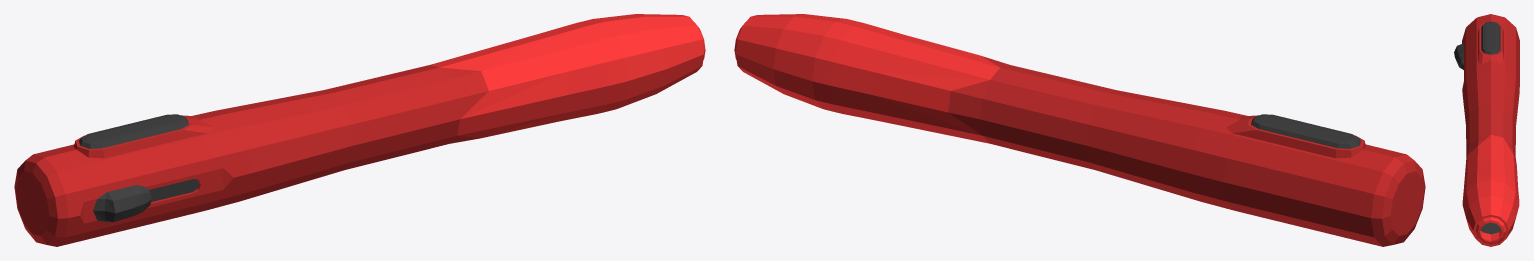
3 renders of one model, left to right at view 1: azimuth 30°, elevation 25°; view 2: azimuth 150°, elevation 25°; view 3: azimuth 270°, elevation 25°, orthographic. The views are drawn at different scales.
Visible parts, largest first — view 1: red expo dry erase marker; view 2: red expo dry erase marker; view 3: red expo dry erase marker.
Boxes of the visible parts, <box> form: red expo dry erase marker: <box>14,14,705,246</box>; red expo dry erase marker: <box>734,14,1425,246</box>; red expo dry erase marker: <box>1454,14,1519,246</box>.
Bounding box in the file's own units: 60 × 8.12 × 8.55.
